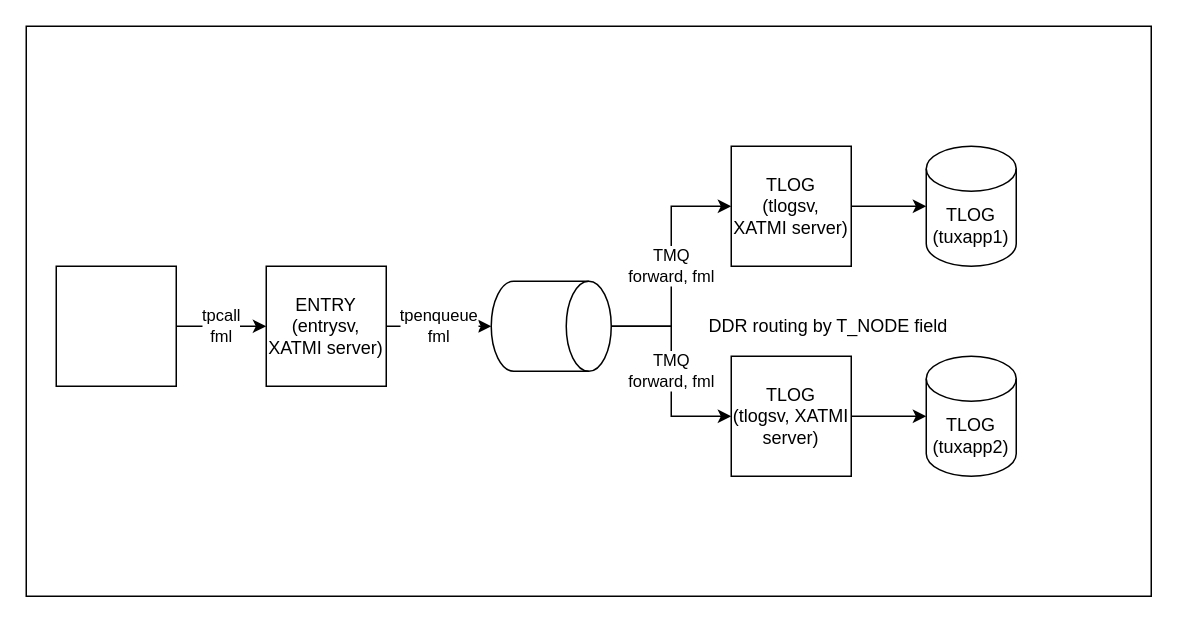
Some shapes in this 1178 by 623 pixel diagram are drawn without their labels. The box of each missing label's shape, as (x1, y1, x2, y2) in pixels:
Q1: (490, 280, 611, 371)
txgencl (XATMI client): (55, 265, 176, 386)
